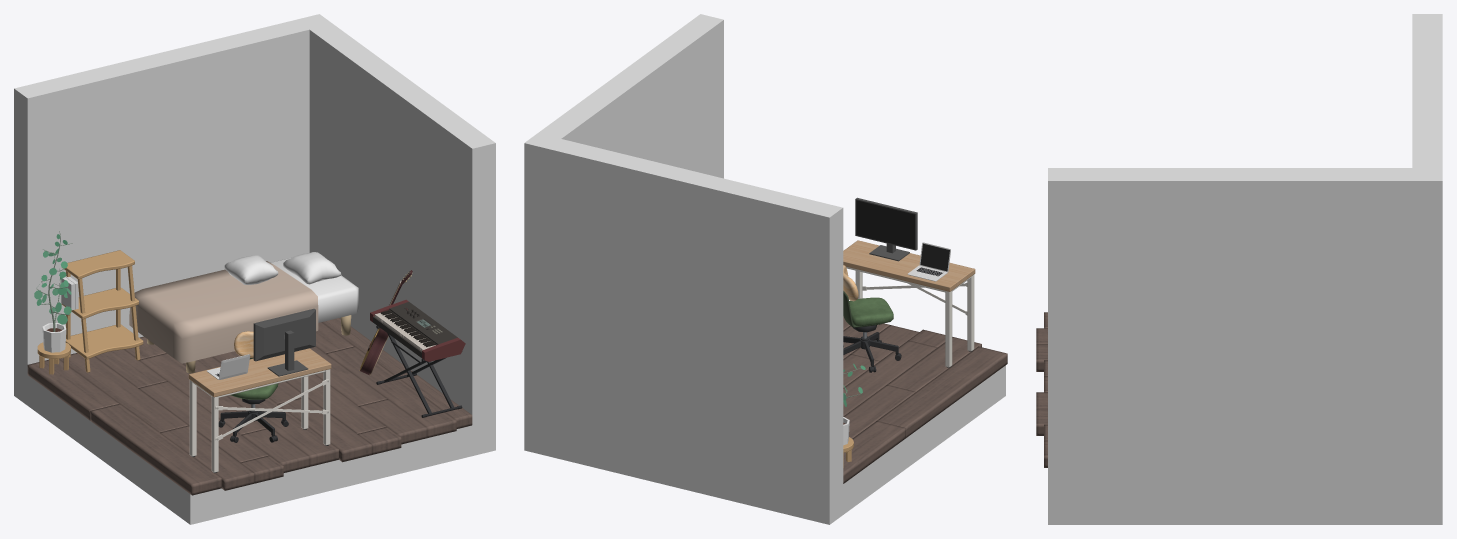
The model's file is Portfolio2025-Room-Resized20250914.glb.
3 renders of one model, left to right at view 1: azimuth 30°, elevation 25°; view 2: azimuth 150°, elevation 25°; view 3: azimuth 270°, elevation 25°, orthographic. The views are drawn at different scales.
Visible parts, largest first — view 1: Wall, WoodFloor.001, ベッド掛け布団, Desk, Shelf, Synthesizer.001, モニター27インチ, ベッド, Chair, Plant, ベッド枕, KeyboardStand (+5 smaller); view 2: Wall, WoodFloor.001, Desk, モニター27インチ, Chair, PCトップ; view 3: Wall, WoodFloor.001.
Part boxes in pixels (<box>): Wall: <box>14,14,495,524</box>; WoodFloor.001: <box>27,318,472,495</box>; ベッド掛け布団: <box>129,261,318,363</box>; Desk: <box>188,348,331,472</box>; Shelf: <box>61,250,143,372</box>; Synthesizer.001: <box>370,299,465,361</box>; モニター27インチ: <box>253,308,315,376</box>; ベッド: <box>147,257,358,373</box>; Chair: <box>218,331,288,442</box>; Plant: <box>34,231,72,331</box>; ベッド枕: <box>283,252,341,284</box>; KeyboardStand: <box>376,326,462,417</box>; Wall: <box>524,14,1005,524</box>; WoodFloor.001: <box>843,316,1007,483</box>; Desk: <box>843,240,975,367</box>; モニター27インチ: <box>855,197,917,261</box>; Chair: <box>843,265,901,372</box>; PCトップ: <box>919,242,950,272</box>; Wall: <box>1048,14,1442,524</box>; WoodFloor.001: <box>1036,312,1047,467</box>.
Bounding box in the file's own units: 3.17 × 3 × 3.21.
Materials: 20 (7 with a texture image).
